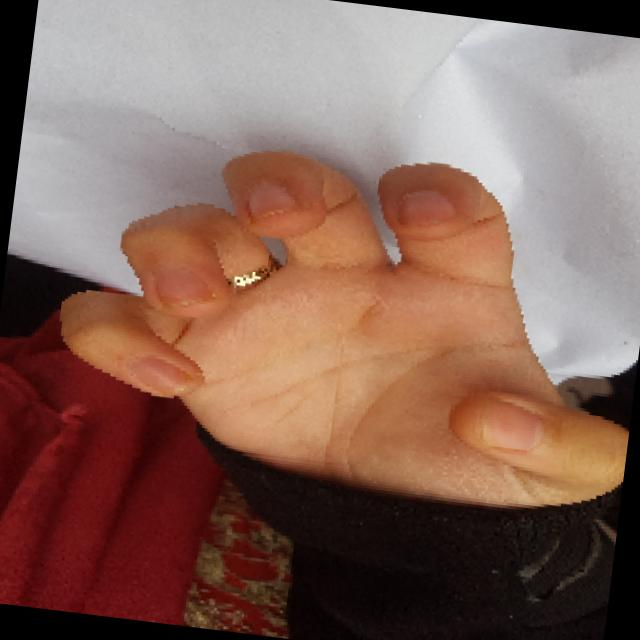Nail: (482, 402, 543, 449), (130, 356, 190, 395), (153, 267, 211, 306), (397, 188, 455, 223), (247, 180, 296, 218)
